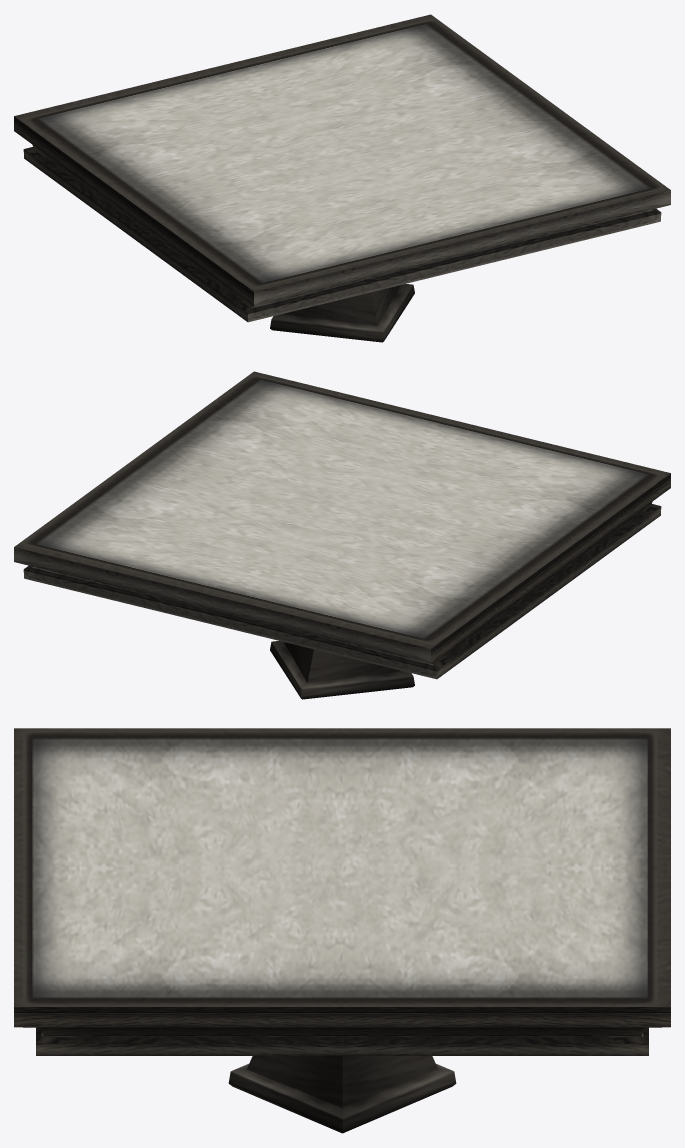
Rendered from ColonialTable_HD.fbx.
3 views of the same model, one above another, from view 1: azimuth 30°, elevation 25°; view 2: azimuth 150°, elevation 25°; view 3: azimuth 270°, elevation 25° (orthographic). The views are drawn at different scales.
Parts seen in each view (by area): view 1: ColonialTable; view 2: ColonialTable; view 3: ColonialTable.
Boxes of the visible parts, bbox=[...] form: ColonialTable: bbox=[14, 14, 670, 342]; ColonialTable: bbox=[14, 371, 670, 699]; ColonialTable: bbox=[14, 728, 670, 1133].
Size of the model in its own units: 1.65 by 0.6048 by 1.64.
